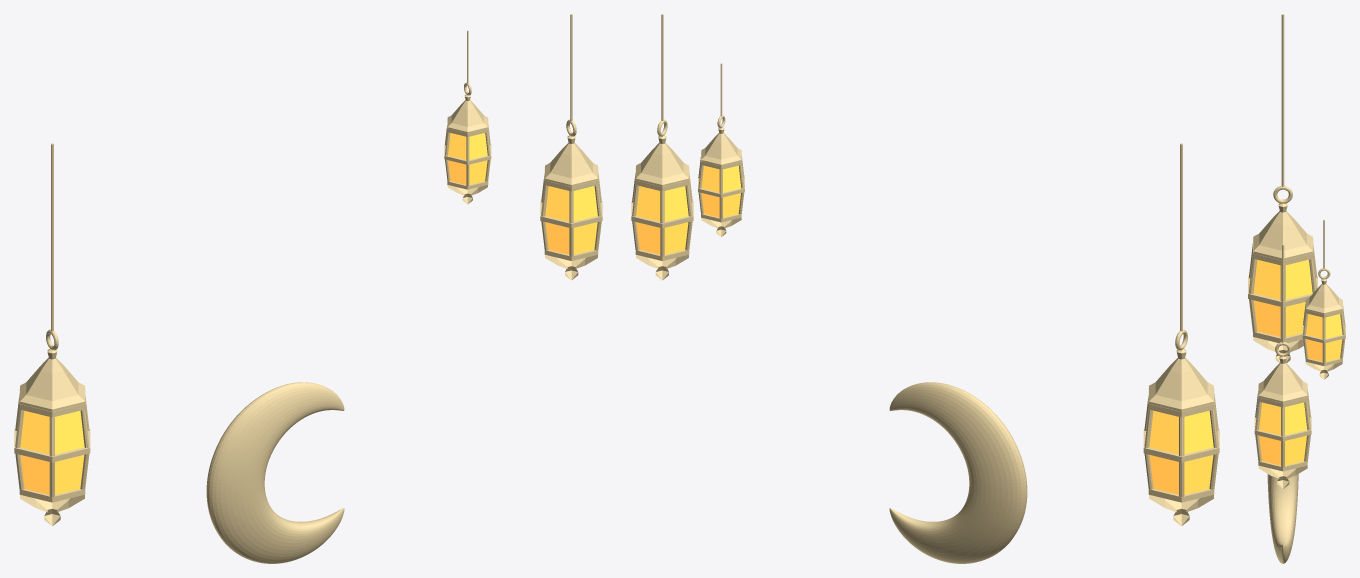
The model's file is eid_fitr.glb.
The picture shows the model from 3 angles, left to right: view 1: azimuth 30°, elevation 25°; view 2: azimuth 150°, elevation 25°; view 3: azimuth 270°, elevation 25°; orthographic projection. The views are drawn at different scales.
Visible parts, largest first — view 1: crescent, lantern_l, lantern_r, lantern_m; view 2: crescent, lantern_l, lantern_r, lantern_m; view 3: lantern_l, lantern_r, lantern_m, crescent.
Boxes of the visible parts, x1,y1,x2,y2 form: crescent: (206, 382, 344, 563); lantern_l: (14, 143, 90, 526); lantern_r: (540, 14, 602, 280); lantern_m: (444, 30, 491, 204); crescent: (889, 382, 1027, 563); lantern_l: (1143, 143, 1219, 526); lantern_r: (631, 14, 693, 280); lantern_m: (698, 63, 744, 236); lantern_l: (1248, 14, 1317, 362); lantern_r: (1254, 244, 1311, 488); lantern_m: (1302, 219, 1345, 379); crescent: (1267, 474, 1298, 563).
Size of the model in its own units: 4.56 by 3.54 by 0.7134.
